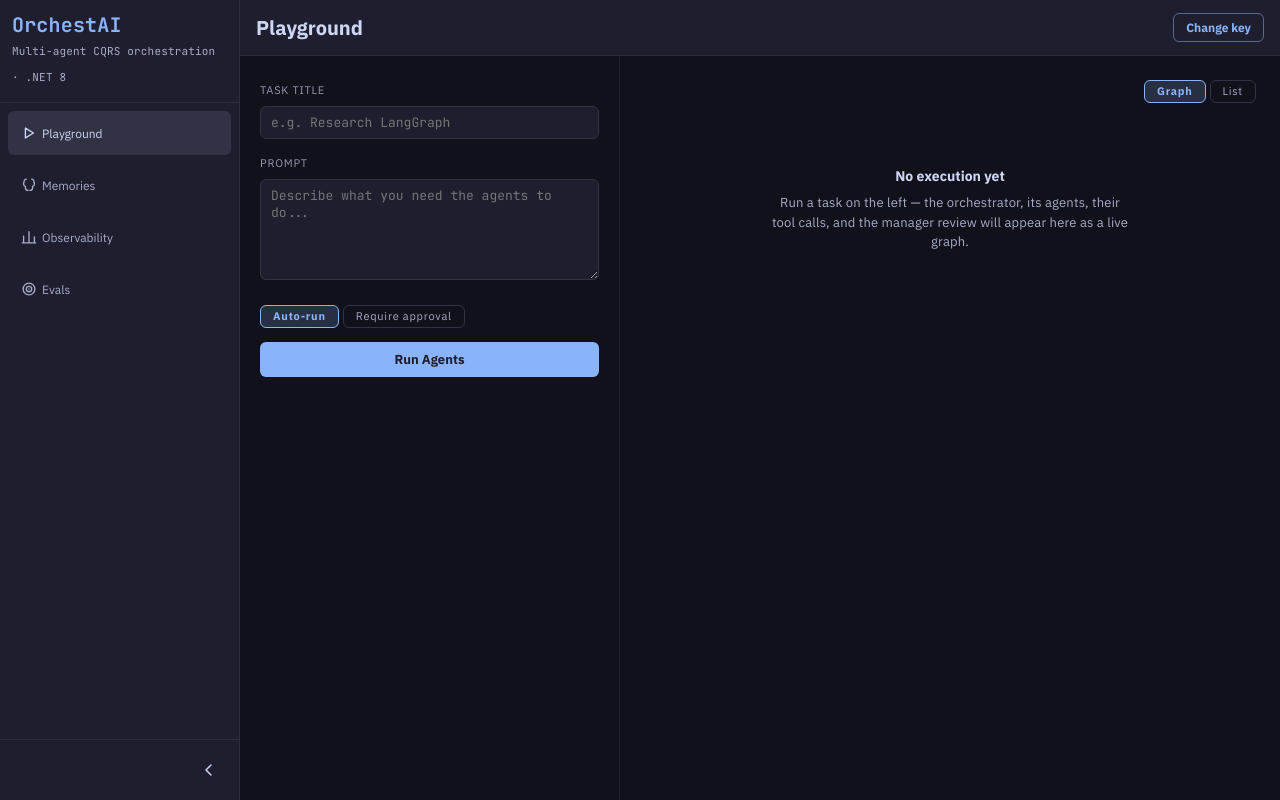
Test case: F1.1 — section headings exist to navigate by › gives Observability Error Rates a heading per table
Click the button "Observability": (120, 237) [8,215,231,259]
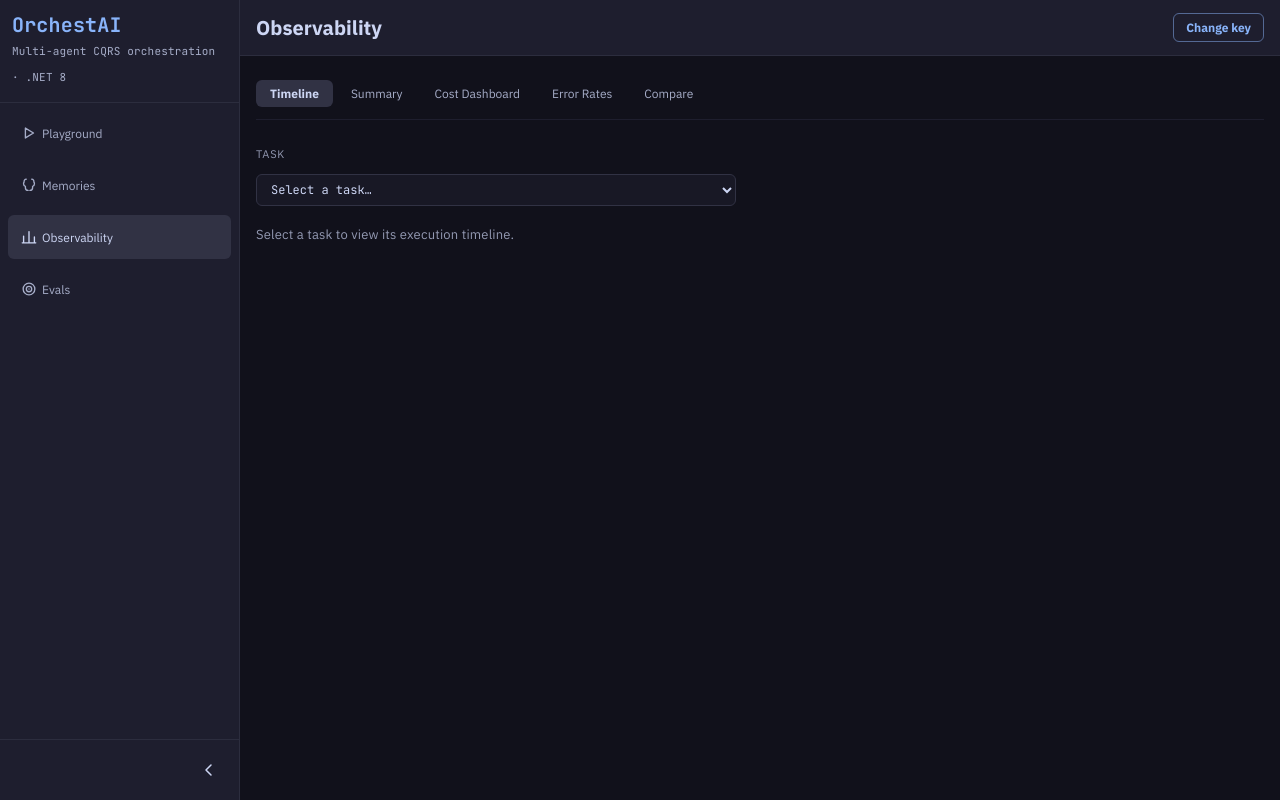
Click the button "Error Rates": (582, 94) [538,80,626,107]
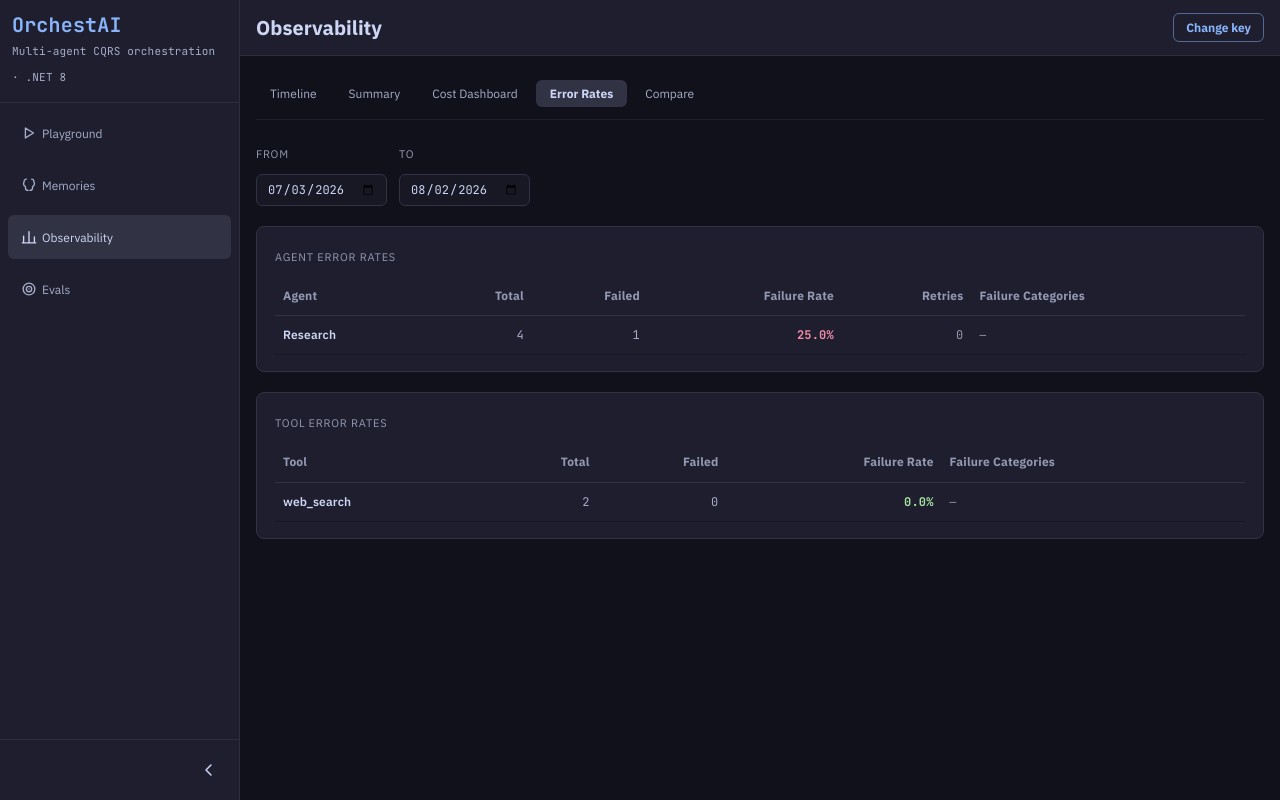
Now the heading "Agent Error Rates" is shown, box [275,250,396,264]
Now the heading "Tool Error Rates" is shown, box [275,416,387,430]
